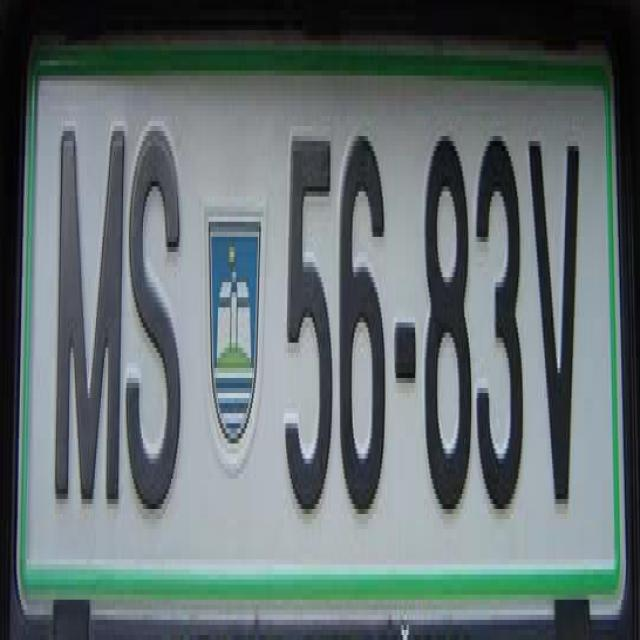Autre: (20, 62, 617, 572)
